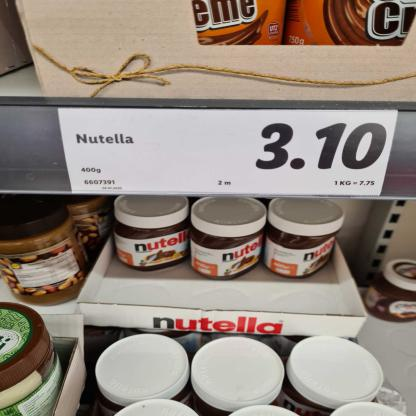prtg: (58, 109, 399, 197)
